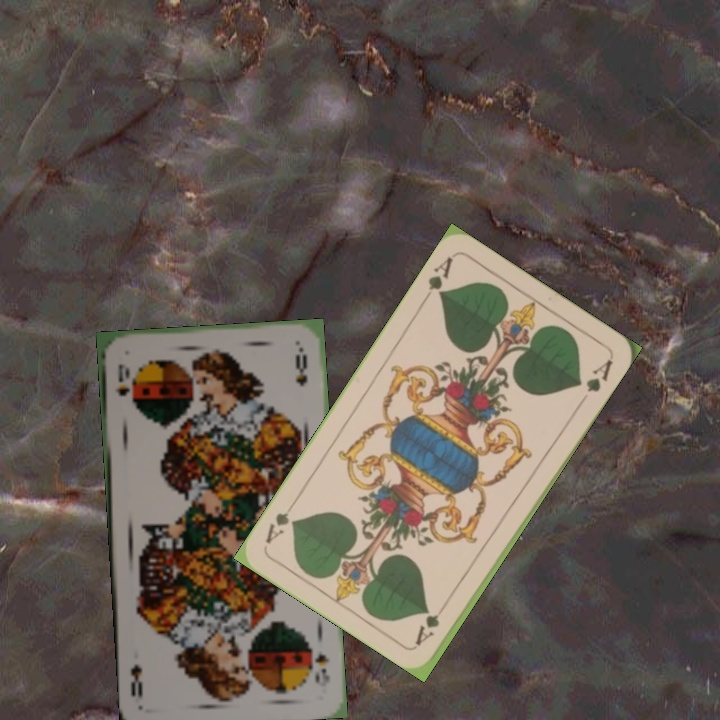GA: (424, 252, 456, 300), (411, 610, 442, 648)
SO: (308, 641, 332, 690), (111, 359, 132, 399)
